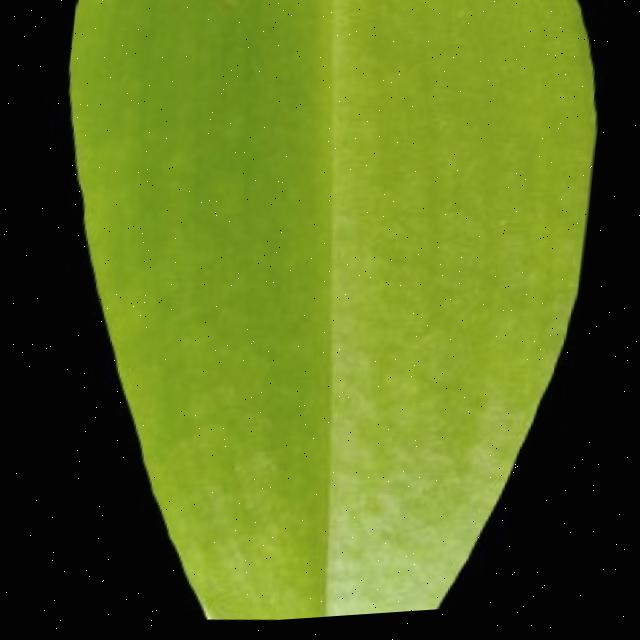spots: (9, 0, 616, 624)
